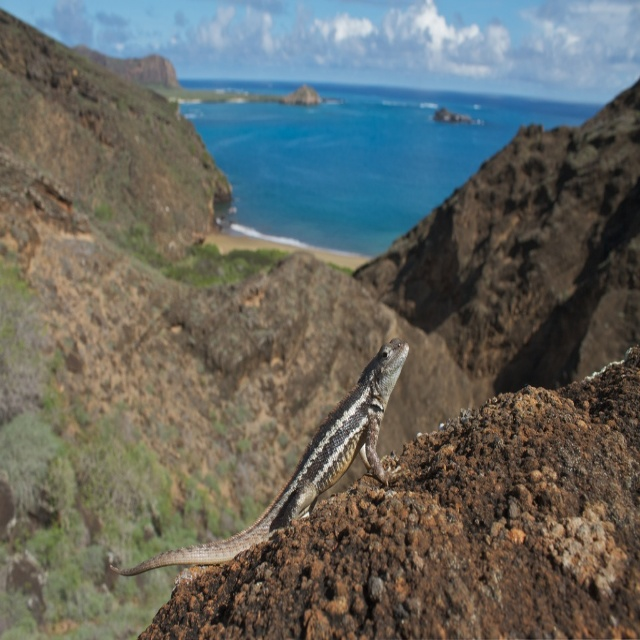Lizard: (111, 325, 405, 609)
